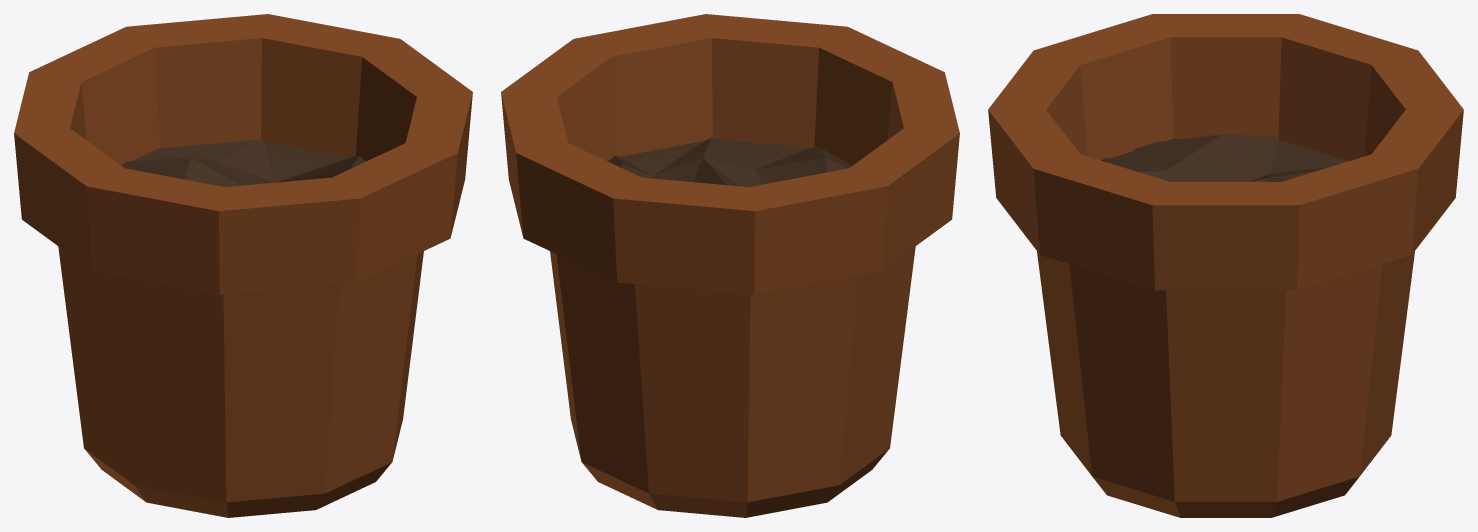
The model's file is FlowerPot.fbx.
3 renders of one model, left to right at view 1: azimuth 30°, elevation 25°; view 2: azimuth 150°, elevation 25°; view 3: azimuth 270°, elevation 25°, orthographic.
Visible parts, largest first — view 1: Jar, dirt; view 2: Jar, dirt; view 3: Jar, dirt.
Part boxes in pixels (bbox=[...]): Jar: bbox=[14, 14, 472, 517]; dirt: bbox=[121, 140, 365, 186]; Jar: bbox=[501, 14, 959, 517]; dirt: bbox=[608, 138, 852, 186]; Jar: bbox=[988, 14, 1463, 517]; dirt: bbox=[1101, 134, 1348, 181].
Bounding box in the file's own units: 19.71 × 16.78 × 20.72.
